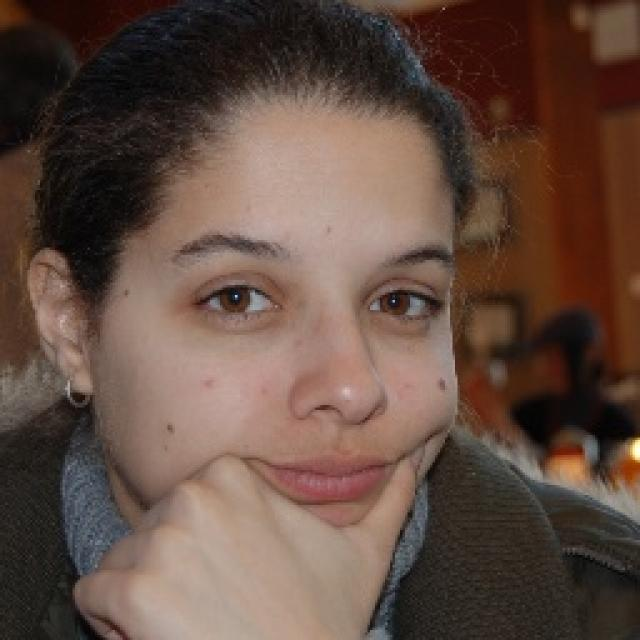earlobe: (23, 240, 96, 394)
